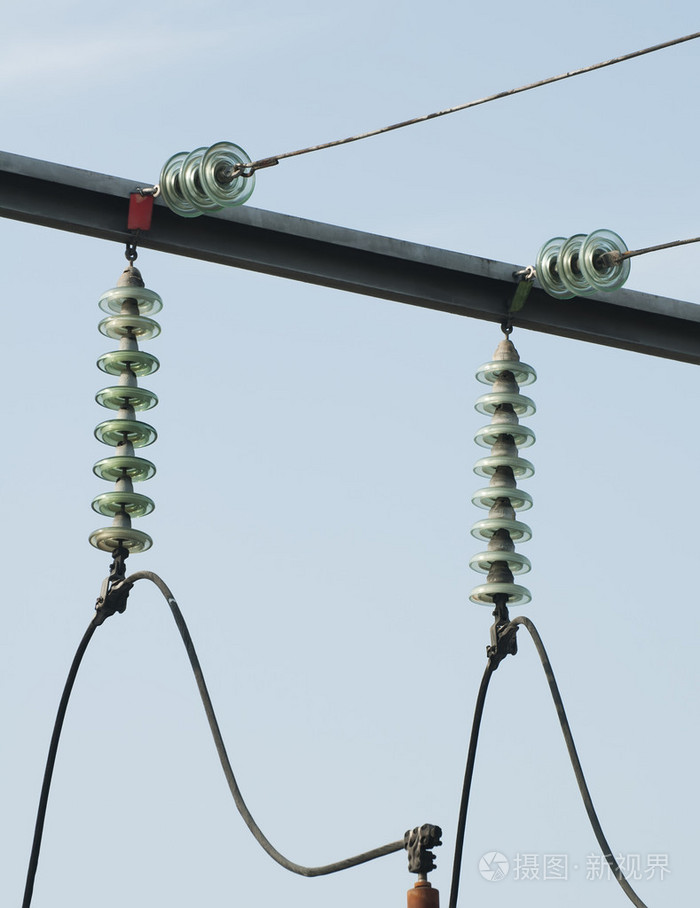insulator: (86, 286, 164, 554), (469, 359, 541, 606), (164, 139, 261, 218), (538, 228, 632, 301)
